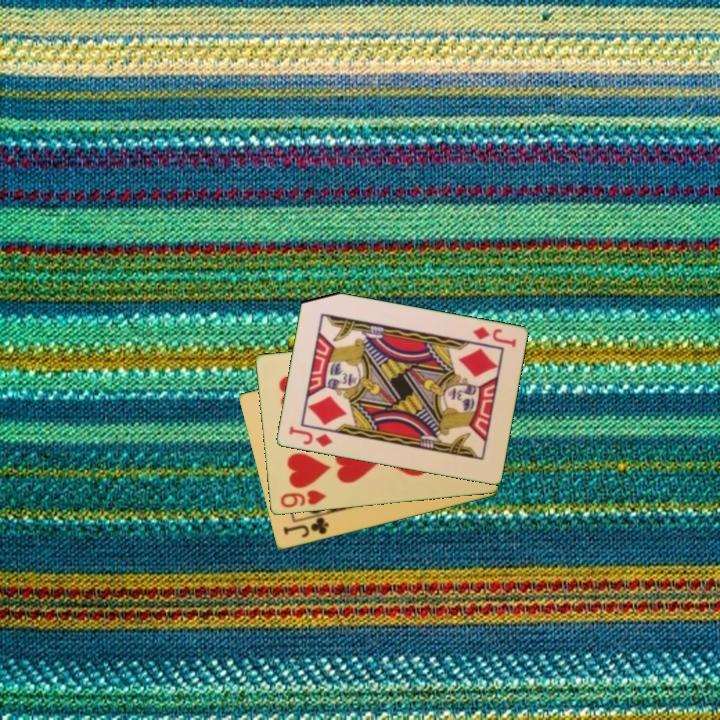9h: (277, 487, 329, 511)
Jc: (280, 514, 332, 541)
Jd: (469, 323, 519, 351), (285, 423, 335, 450)
